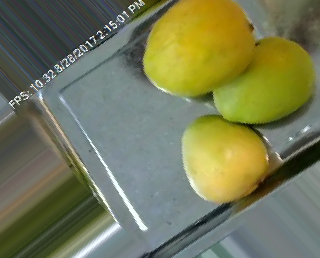Mango: (140, 0, 259, 102), (209, 28, 316, 130), (178, 110, 271, 203)
